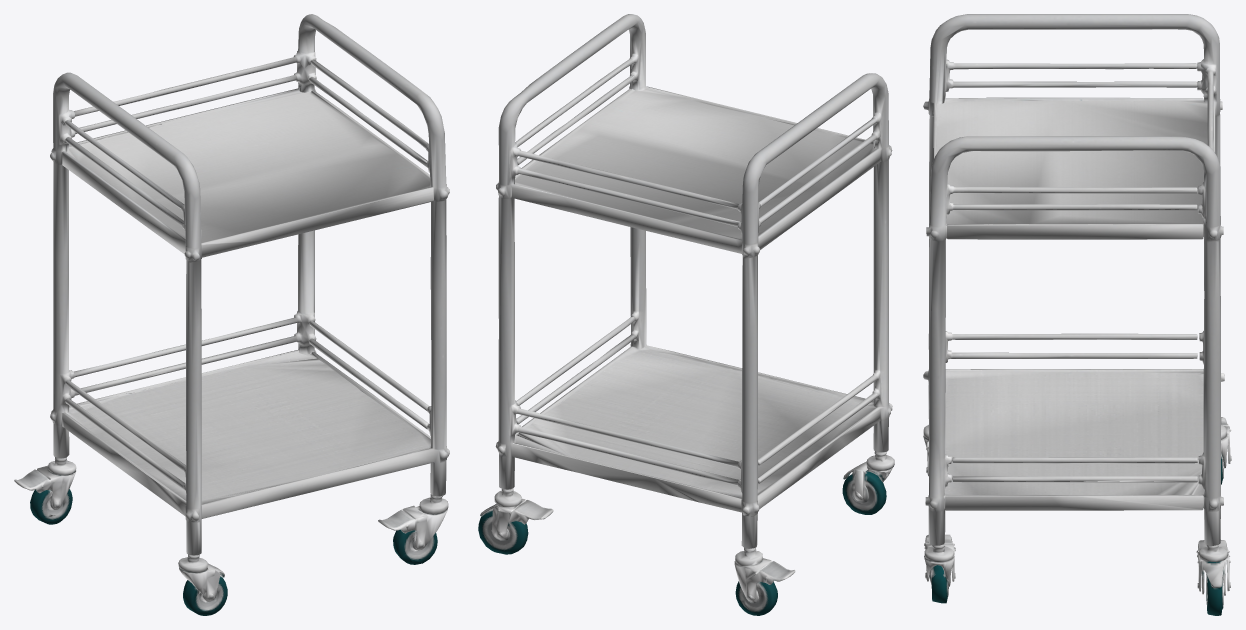
The model's file is Trolley_low.fbx.
3 renders of one model, left to right at view 1: azimuth 30°, elevation 25°; view 2: azimuth 150°, elevation 25°; view 3: azimuth 270°, elevation 25°, orthographic. The views are drawn at different scales.
Visible parts, largest first — view 1: Trolley_low; view 2: Trolley_low; view 3: Trolley_low.
Boxes of the visible parts, x1=… form: Trolley_low: x1=14, y1=14, x2=449, y2=615; Trolley_low: x1=478, y1=14, x2=894, y2=615; Trolley_low: x1=923, y1=14, x2=1231, y2=615.
Size of the model in its own units: 137 by 190 by 113.
